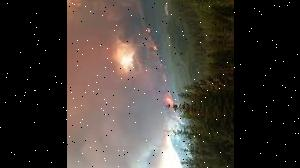fire: (139, 25, 174, 109)
